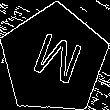M_S: (25, 28, 84, 92)
